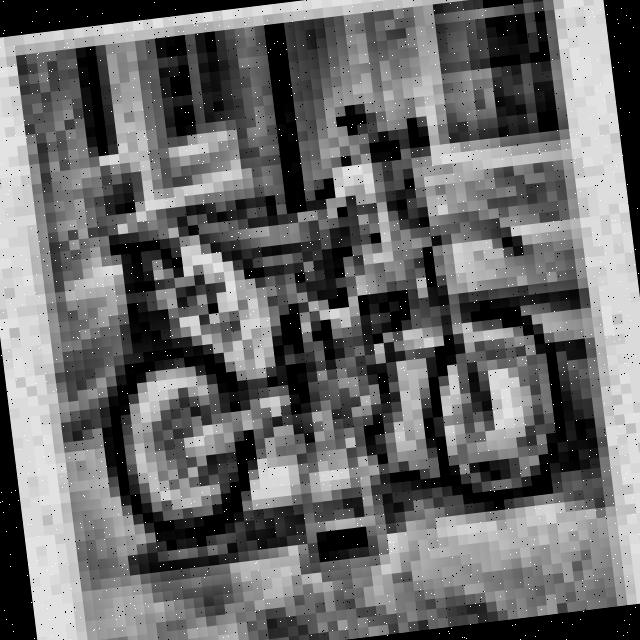mopeds: (85, 100, 600, 566)
